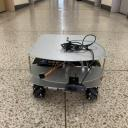cart: (27, 34, 107, 100)
